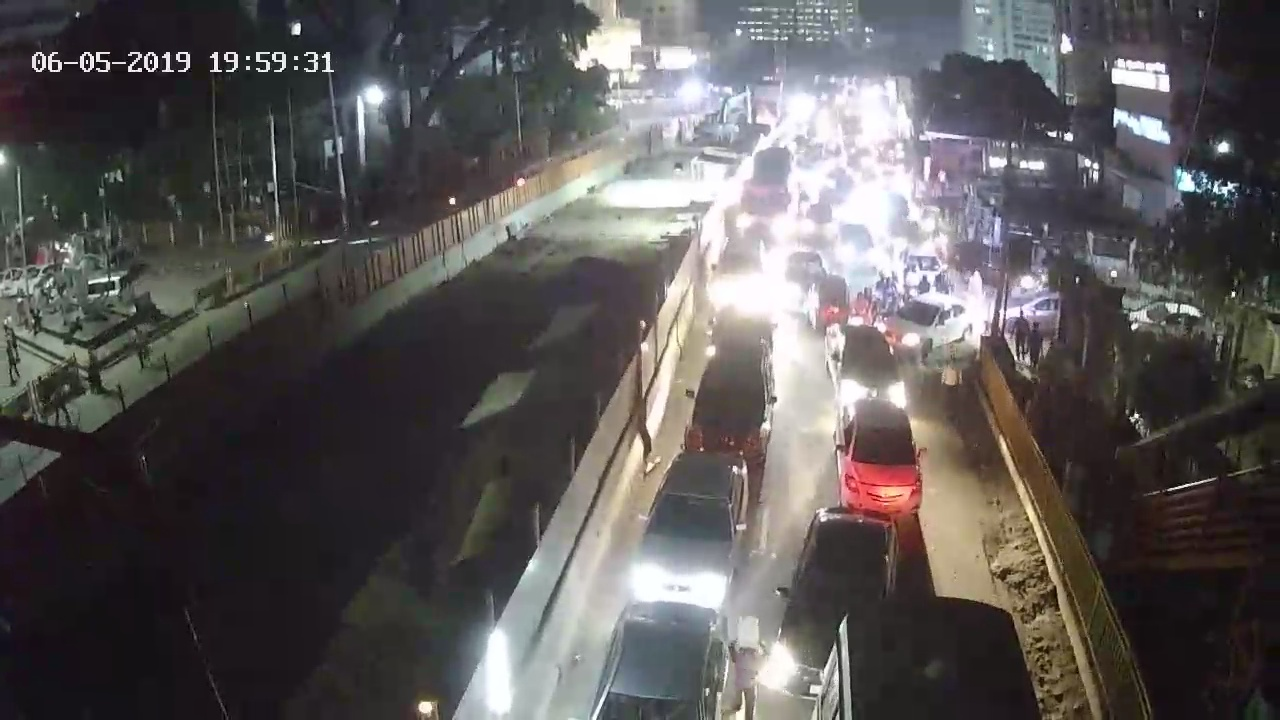fast_in: (761, 509, 896, 699), (621, 446, 772, 610), (578, 604, 747, 720), (829, 389, 940, 522), (680, 339, 778, 470), (823, 316, 910, 410), (878, 293, 984, 359)
